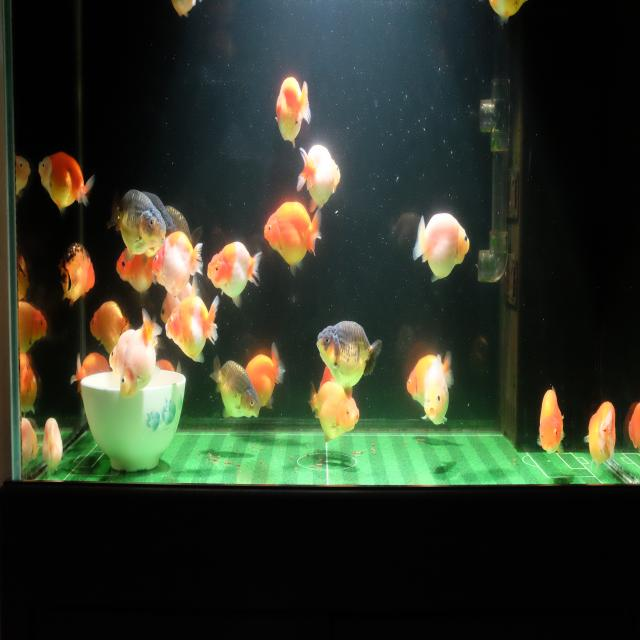Goldfish: (314, 314, 384, 402), (263, 198, 324, 280), (105, 186, 167, 266), (411, 212, 472, 286), (36, 148, 97, 220), (205, 237, 263, 310), (304, 374, 361, 448), (163, 293, 219, 368), (119, 306, 162, 402), (208, 352, 262, 423), (152, 227, 205, 296), (295, 140, 343, 215), (53, 237, 97, 310), (273, 73, 312, 154), (244, 339, 287, 411), (405, 348, 455, 409), (88, 298, 130, 359), (420, 353, 450, 436), (536, 384, 566, 465), (67, 346, 110, 402), (583, 398, 616, 468), (112, 243, 154, 296), (19, 301, 51, 358), (40, 414, 66, 478), (105, 327, 134, 381), (19, 348, 40, 421), (15, 149, 31, 203), (627, 398, 640, 456)
